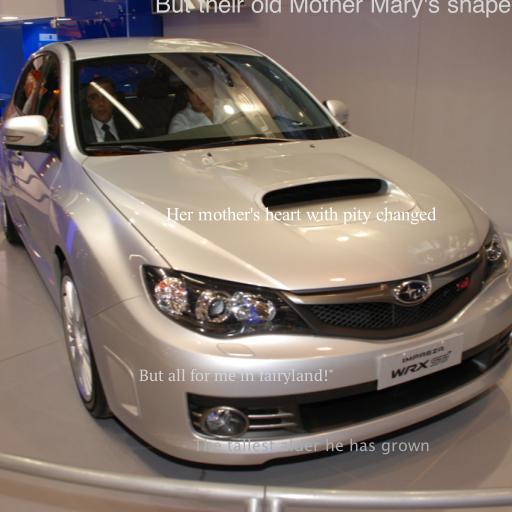Helvetica: (155, 0, 511, 18)
Lucida Grande: (192, 438, 430, 455)
PT Serif: (138, 368, 334, 385)
Times New Roman: (166, 207, 436, 225)
